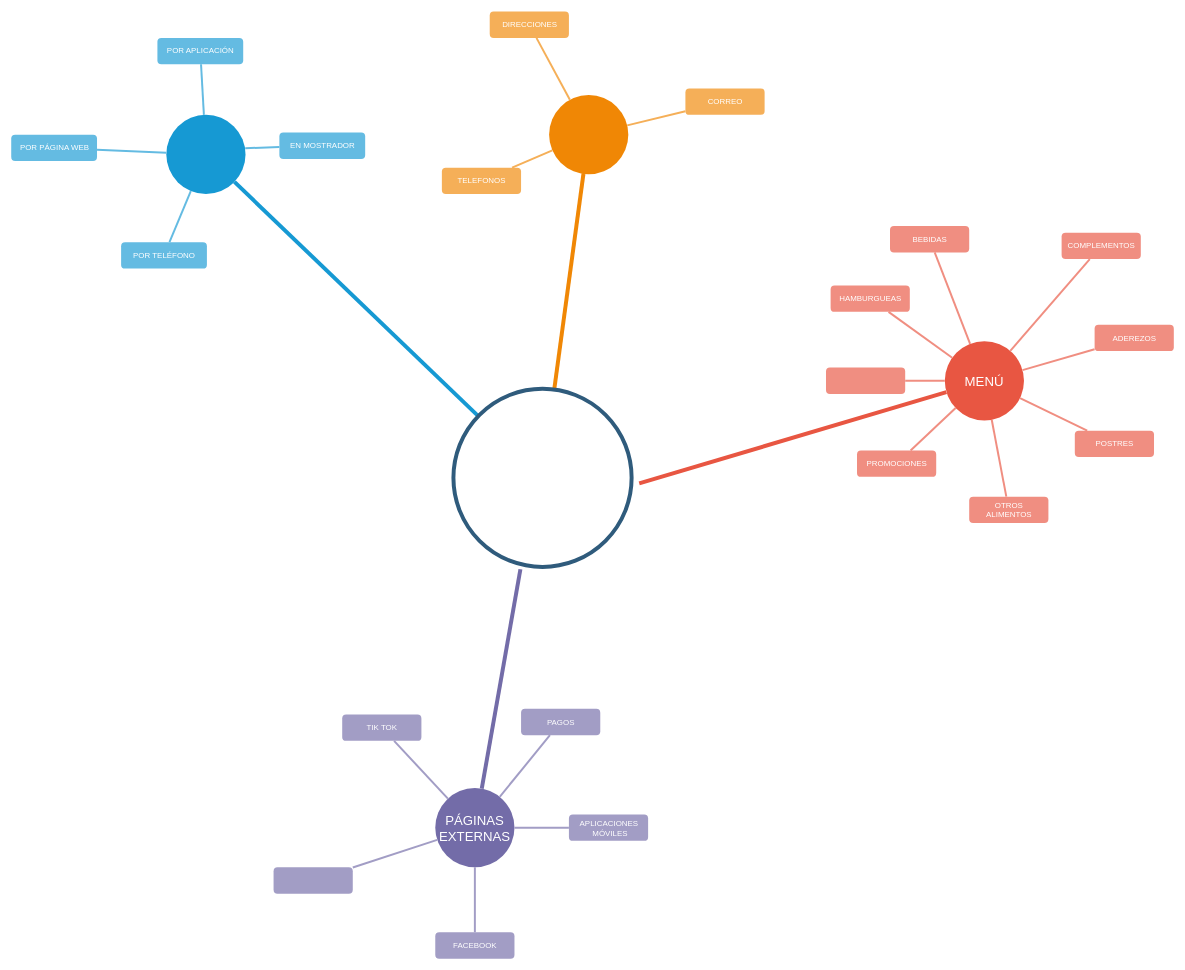
Image size: 1185x970. Some labels were removed from this diagram. Each missing label, with the centre of its shape:
"CATEGORÍAS" belongs at point (865, 380).
"CONTACTO" belongs at point (588, 134).
"INSTAGRAM" belongs at point (312, 880).
"PEDIDOS" belongs at point (205, 154).
"STEAM" belongs at point (542, 477).
